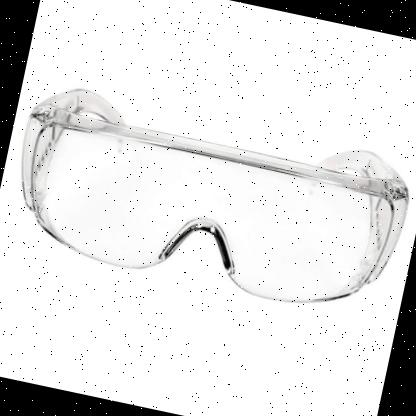oculos: (0, 76, 416, 343)
